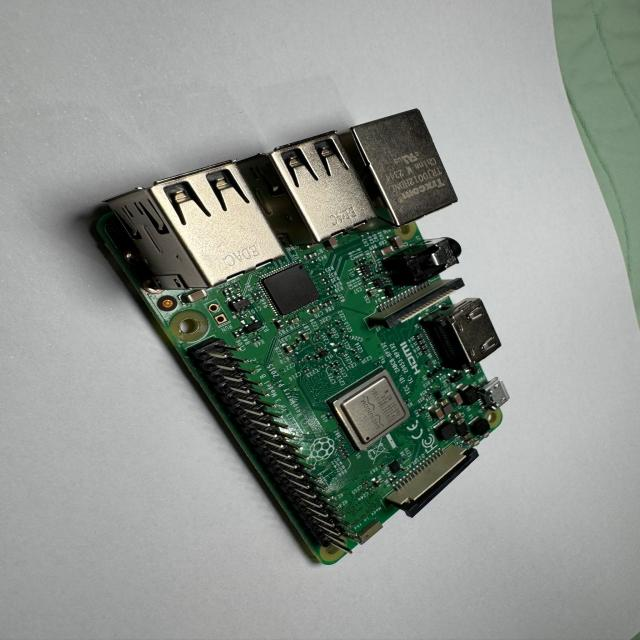CPU: (328, 369, 411, 453)
Ethernet: (340, 109, 459, 227)
GPIO: (186, 336, 372, 566)
HDMI: (422, 292, 505, 377)
RAM-3: (258, 264, 321, 319)
Raspberry: (88, 109, 510, 567)
